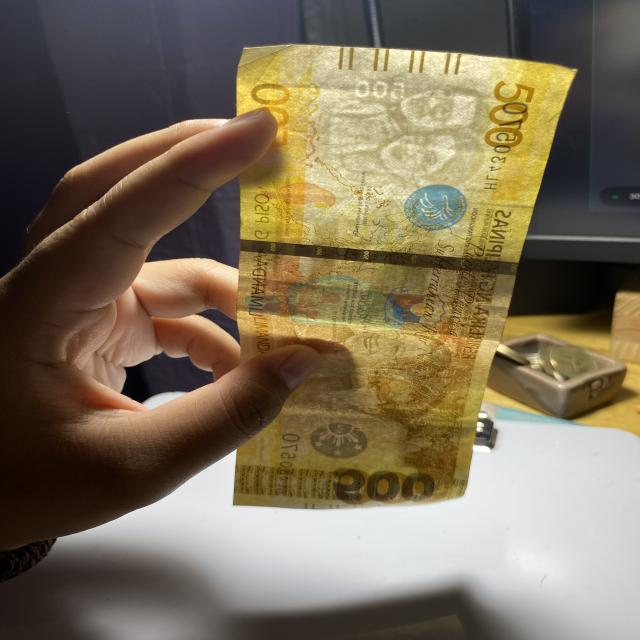500_big_parrot: (247, 272, 426, 342)
500_parrot_watermark: (262, 181, 338, 217)
value_watermark: (354, 80, 411, 102)
watermark: (329, 80, 475, 192)
